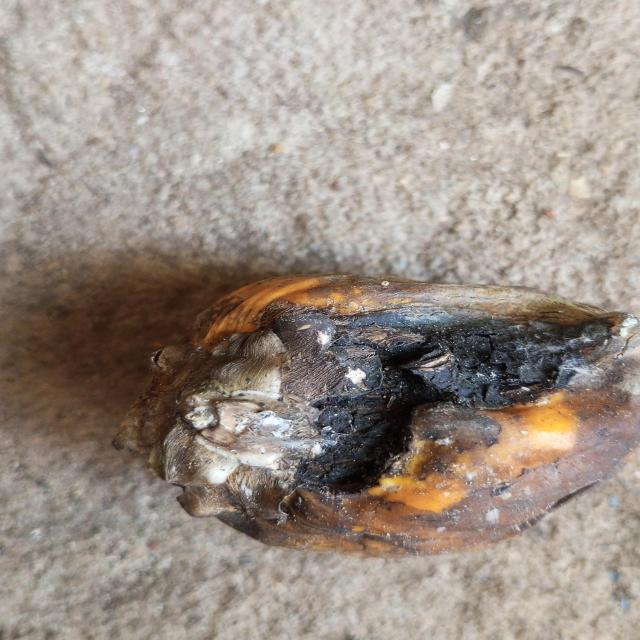damaged: (122, 275, 640, 561)
